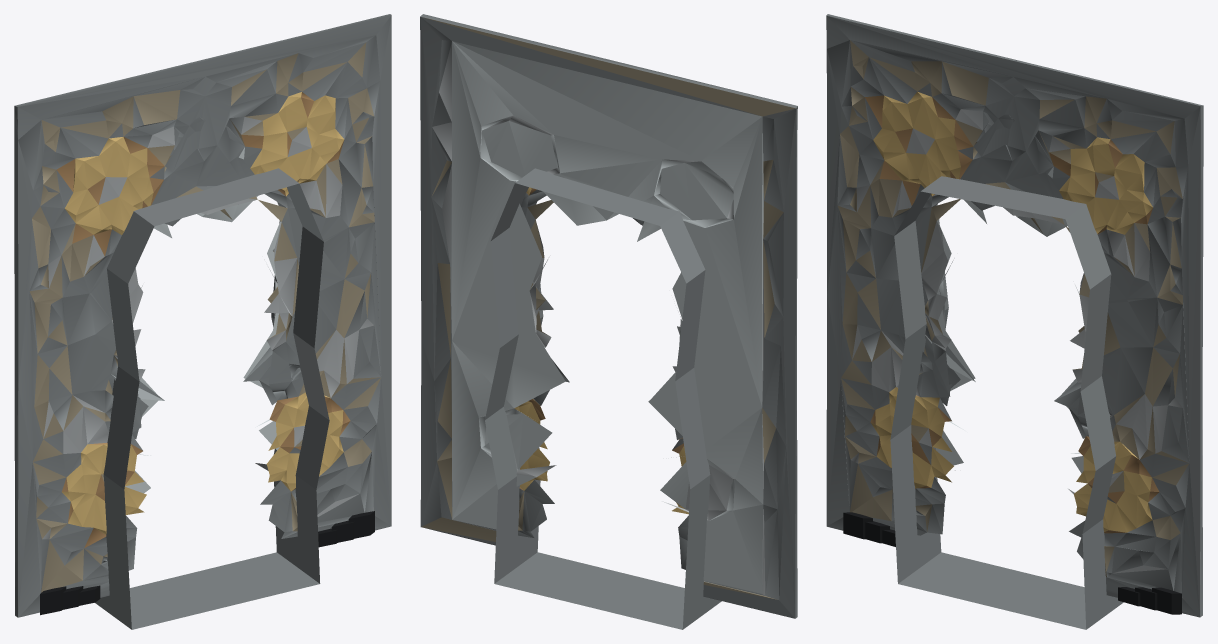
File: clay_wall_broken.glb
3 views of the same model, side by side, from view 1: azimuth 30°, elevation 25°; view 2: azimuth 150°, elevation 25°; view 3: azimuth 330°, elevation 25° (orthographic).
Parts seen in each view (by area): view 1: Mesh_0; view 2: Mesh_0; view 3: Mesh_0.
Boxes of the visible parts, bbox=[...] form: Mesh_0: bbox=[14, 14, 391, 629]; Mesh_0: bbox=[420, 14, 797, 629]; Mesh_0: bbox=[826, 14, 1203, 629].
Size of the model in its own units: 2 by 2.7 by 0.4.
